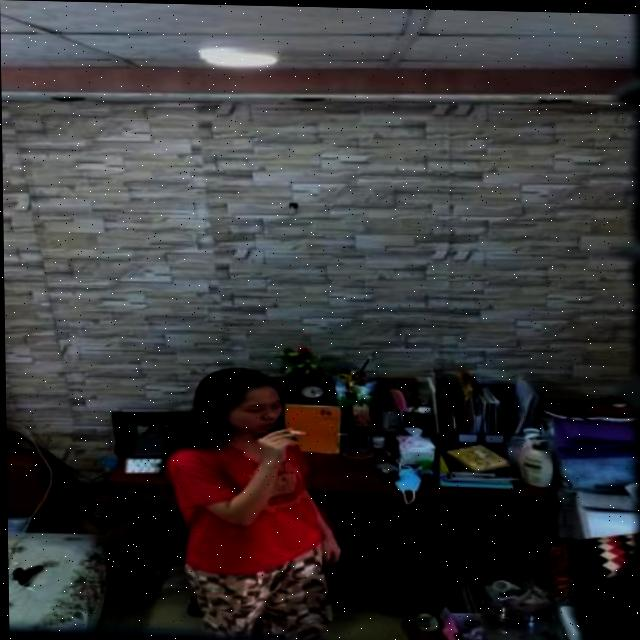cigarette: (286, 429, 309, 433)
